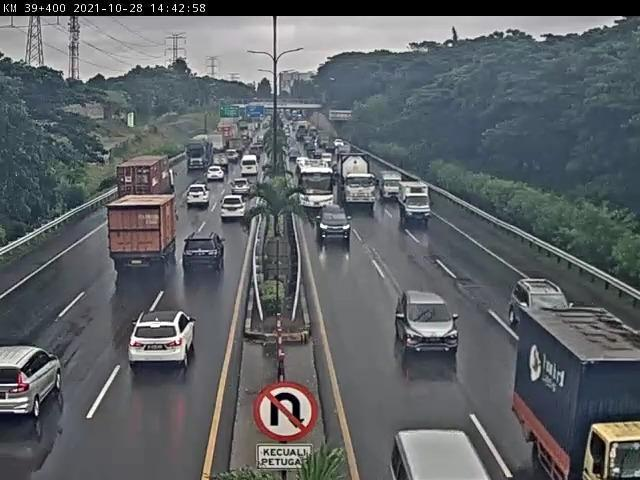bus: (297, 161, 338, 218)
car: (1, 348, 65, 423), (508, 278, 576, 345), (398, 290, 461, 362), (128, 312, 199, 371), (184, 232, 227, 274), (317, 206, 355, 249), (221, 194, 247, 222), (189, 183, 211, 208), (232, 178, 251, 197), (208, 165, 227, 182)
truck: (107, 194, 181, 274), (116, 156, 179, 215), (336, 153, 379, 213), (400, 182, 435, 225), (380, 171, 403, 204)
